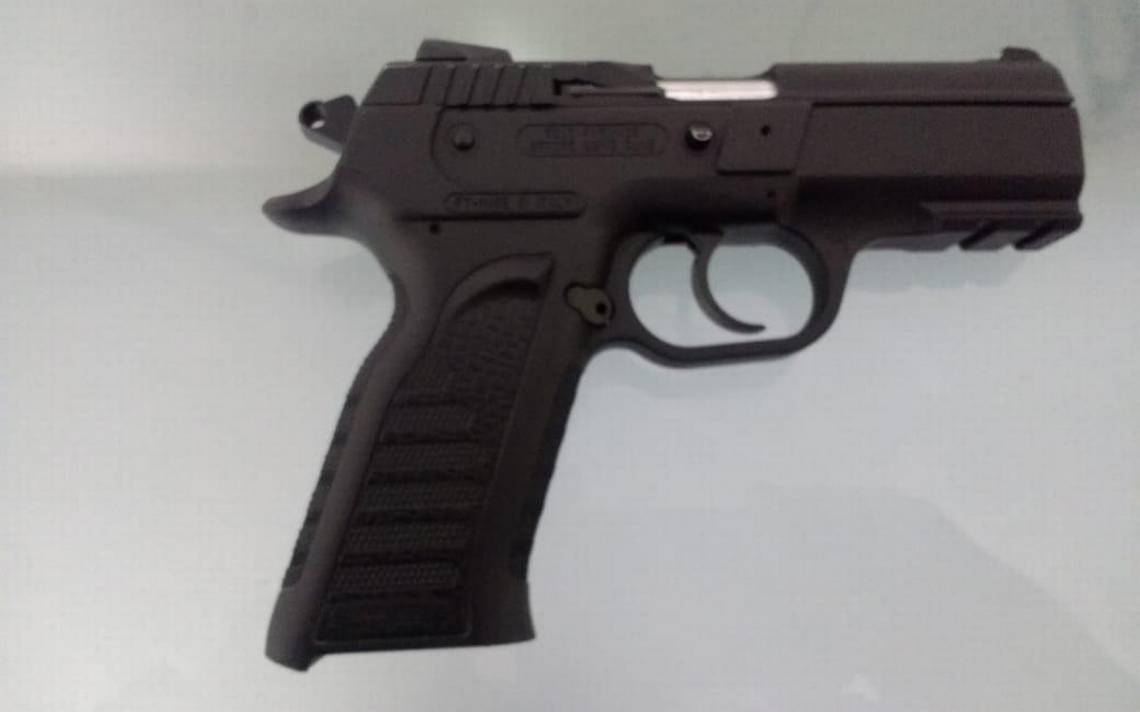Arma Real: (249, 1, 1099, 678)
